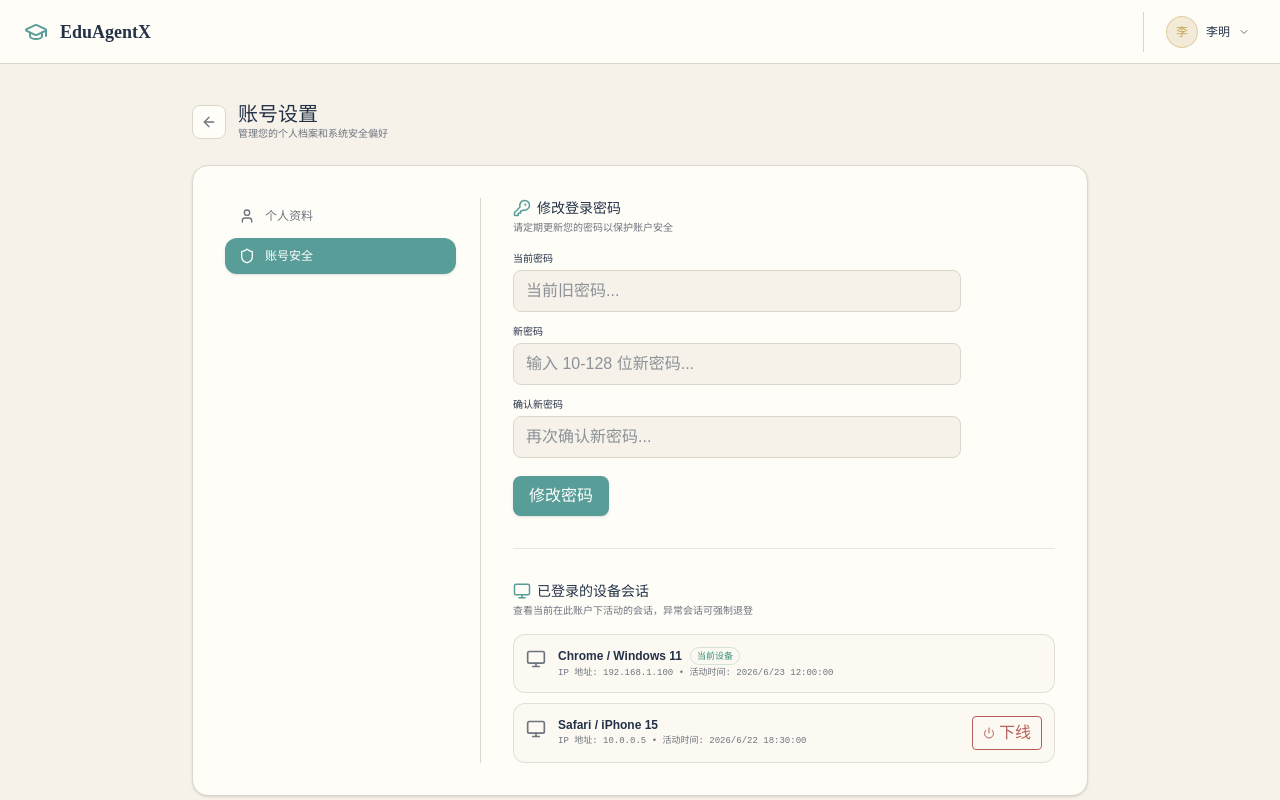
Scenario: Settings Pages › should render device sessions list and revoke a session
This screenshot has width=1280, height=800.
Expected: the text "Chrome / Windows 11" is shown, [558,648,682,662]
Expected: the text "Safari / iPhone 15" is shown, [558,718,658,732]
Note: The other device has a "下线" button
Click the button "下线": point(1007, 733) [972,716,1042,750]
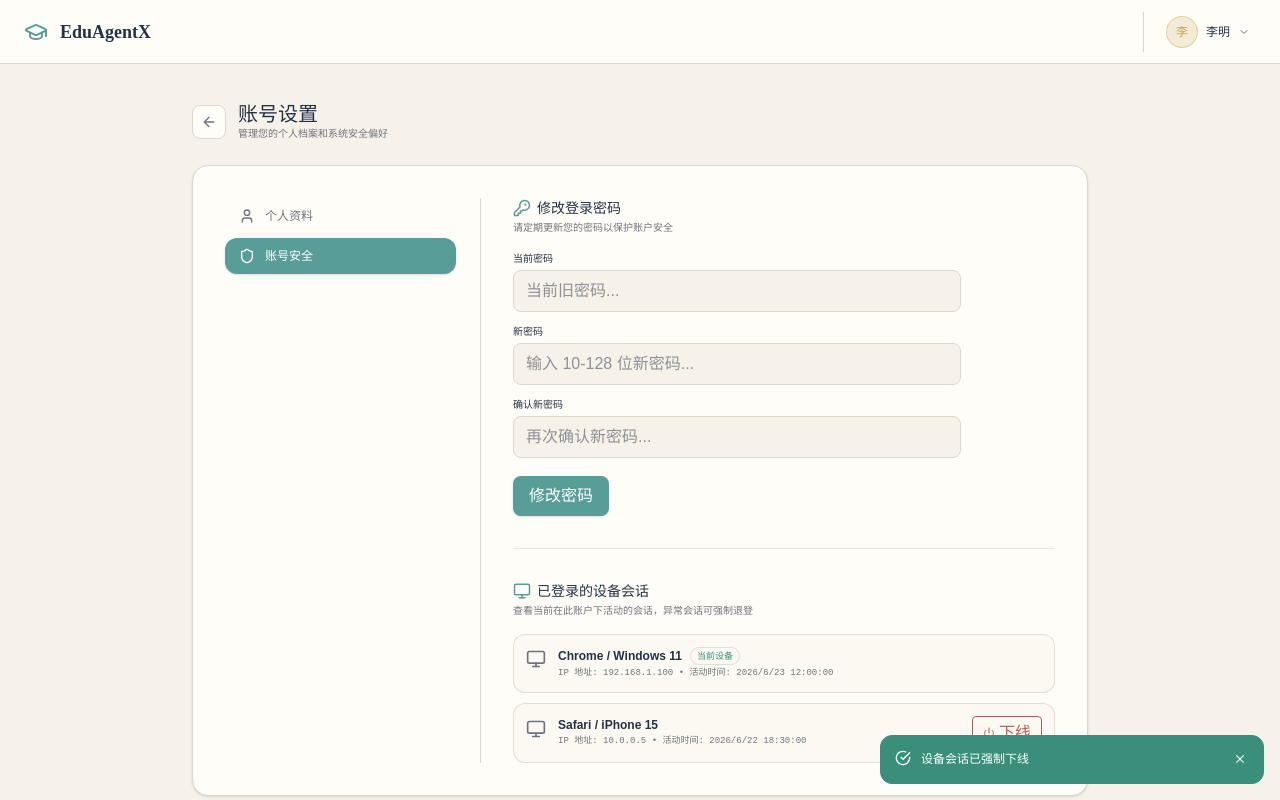
Now the text "设备会话已强制下线" is shown, box [921,752,1029,766]
